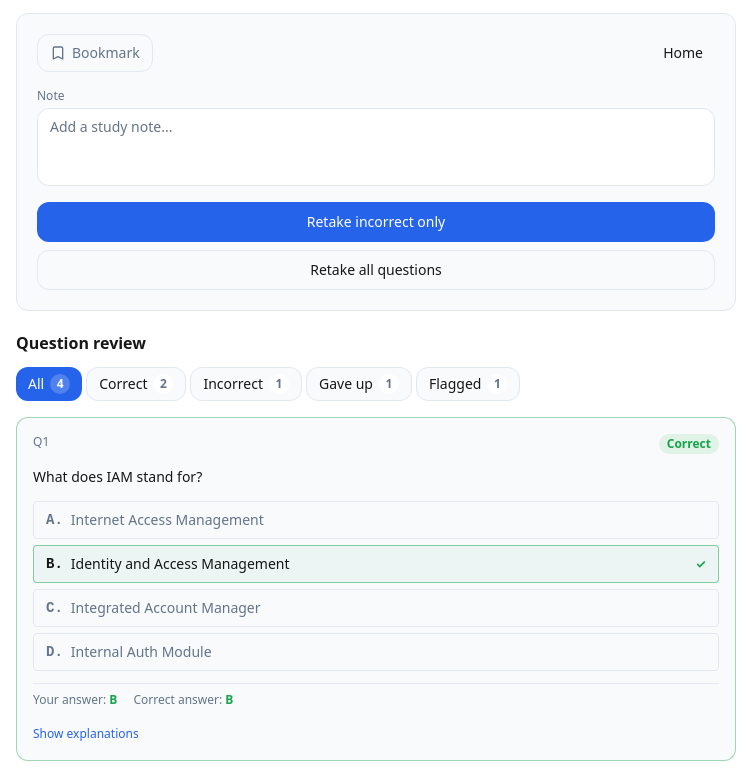
Test: <DetailFilterBar> — filtering › Gave up filter shows the gave-up question (q3 was a blank-at-submit)
This screenshot has width=753, height=768.
(page scrolled)
Click the tab "Gave up 1". click: (359, 384)
box: left=306, top=367, right=412, bottom=401
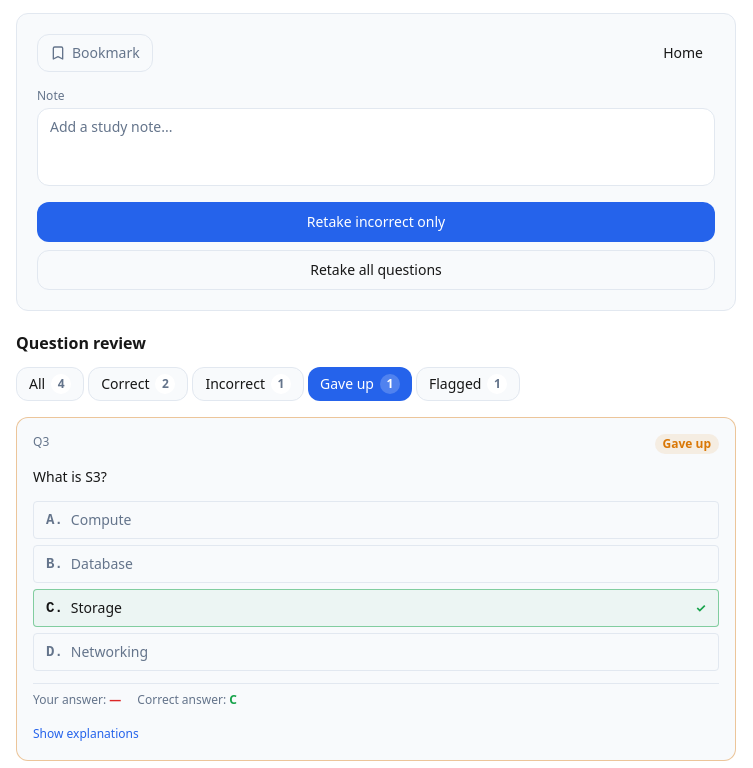
Expected: the text "What is S3?" is shown, left=33, top=467, right=107, bottom=486
Expected: the text "What does IAM stand for?" is gone
